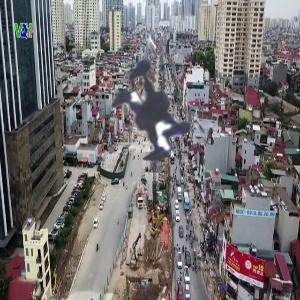drone: (56, 14, 254, 212)
